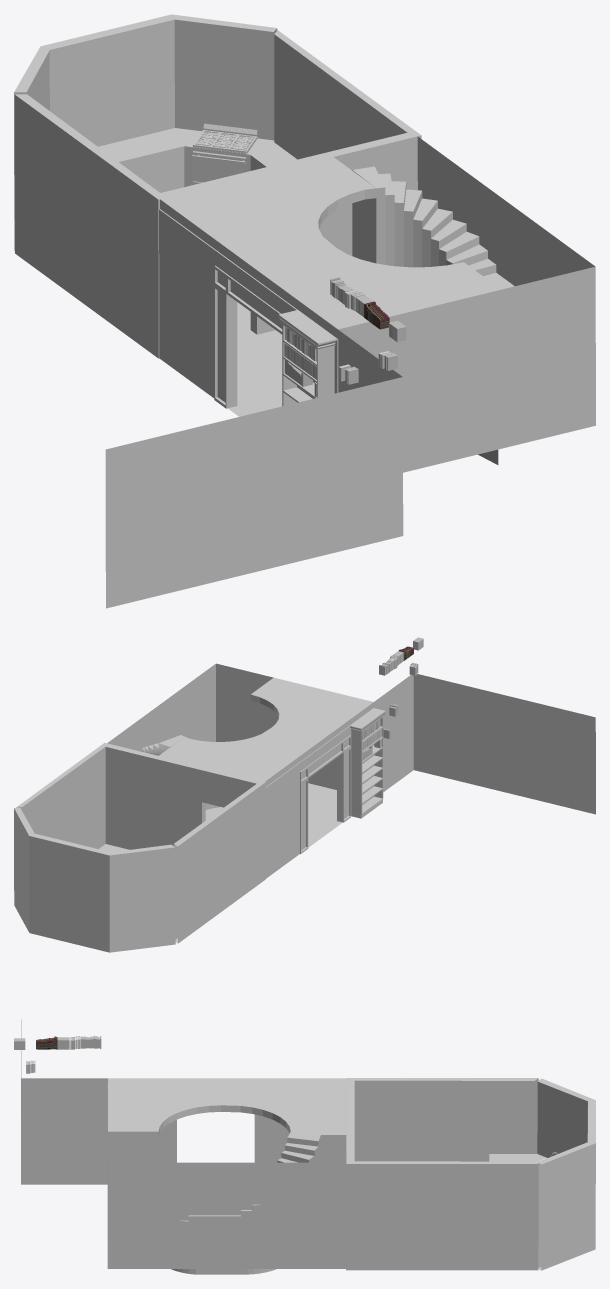
Rendered from book.dae.
The picture shows the model from 3 angles, top to bottom: view 1: azimuth 30°, elevation 25°; view 2: azimuth 150°, elevation 25°; view 3: azimuth 270°, elevation 25°; orthographic projection. The views are drawn at different scales.
Visible parts, largest first — view 1: Cube.002, Cube.001, Cube.006, Circle.001, Cube.005, Circle, Cube.004, Cube.003, Cube, Cube.011, Cube.010; view 2: Cube.002, Cube.001, Cube.006, Circle.001, Cube.005, Cube.011, Cube.003, Cube, Circle; view 3: Cube.001, Cube.002, Circle.001, Cube.006, Cube.005, Circle, Cube.003, Cube.004.
Boxes of the visible parts, x1=… form: Cube.002: x1=105, y1=136, x2=595, y2=608; Cube.001: x1=14, y1=30, x2=421, y2=358; Cube.006: x1=14, y1=14, x2=277, y2=251; Circle.001: x1=158, y1=155, x2=500, y2=338; Cube.005: x1=159, y1=209, x2=338, y2=416; Circle: x1=352, y1=166, x2=514, y2=464; Cube.004: x1=98, y1=128, x2=296, y2=192; Cube.003: x1=214, y1=265, x2=282, y2=408; Cube: x1=236, y1=330, x2=282, y2=414; Cube.011: x1=278, y1=310, x2=337, y2=406; Cube.010: x1=192, y1=123, x2=257, y2=184; Cube.002: x1=107, y1=663, x2=595, y2=814; Cube.001: x1=16, y1=742, x2=265, y2=943; Cube.006: x1=14, y1=807, x2=175, y2=952; Circle.001: x1=157, y1=677, x2=373, y2=786; Cube.005: x1=266, y1=726, x2=351, y2=878; Cube.011: x1=349, y1=708, x2=385, y2=818; Cube.003: x1=300, y1=735, x2=350, y2=853; Cube: x1=205, y1=783, x2=337, y2=842; Circle: x1=141, y1=735, x2=219, y2=809; Cube.001: x1=346, y1=1078, x2=538, y2=1270; Cube.002: x1=21, y1=1019, x2=346, y2=1268; Circle.001: x1=108, y1=1078, x2=348, y2=1141; Cube.006: x1=537, y1=1078, x2=595, y2=1270; Cube.005: x1=107, y1=1085, x2=345, y2=1162; Circle: x1=171, y1=1134, x2=320, y2=1274; Cube.003: x1=161, y1=1114, x2=270, y2=1162; Cube.004: x1=489, y1=1154, x2=547, y2=1162.
Bounding box in the file's own units: 379 × 509 × 157.
